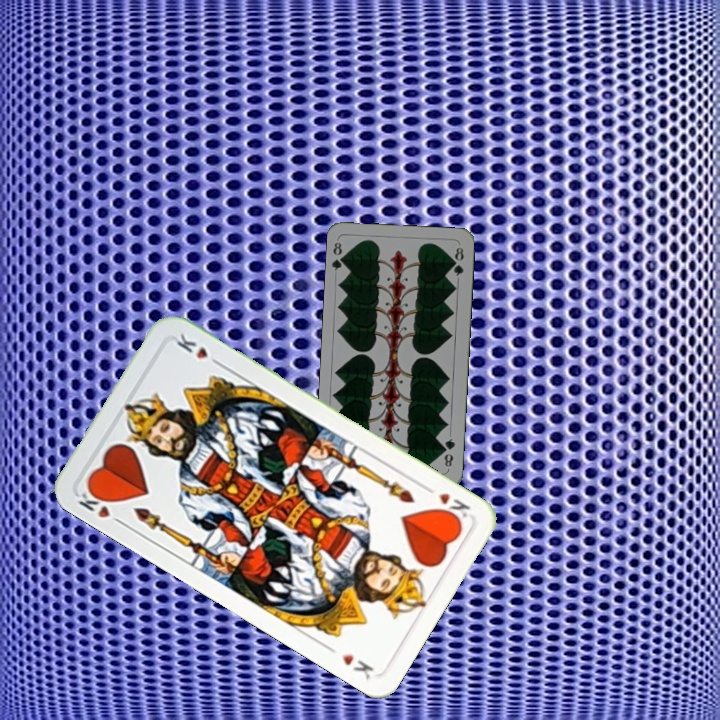G8: (328, 238, 349, 273), (439, 434, 458, 470)
HK: (419, 481, 473, 525), (74, 483, 117, 521)
